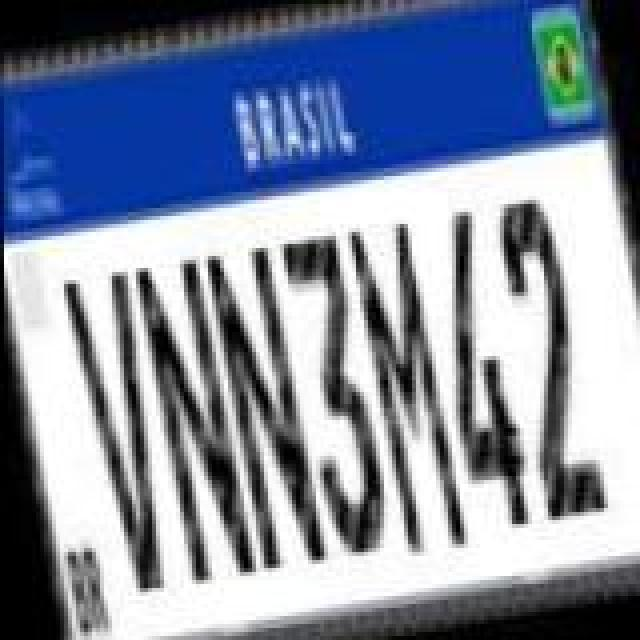2: (484, 186, 608, 526)
3: (266, 224, 394, 560)
4: (410, 198, 530, 534)
M: (342, 212, 462, 560)
N: (128, 252, 256, 588), (198, 238, 326, 574)
V: (58, 264, 186, 600)
